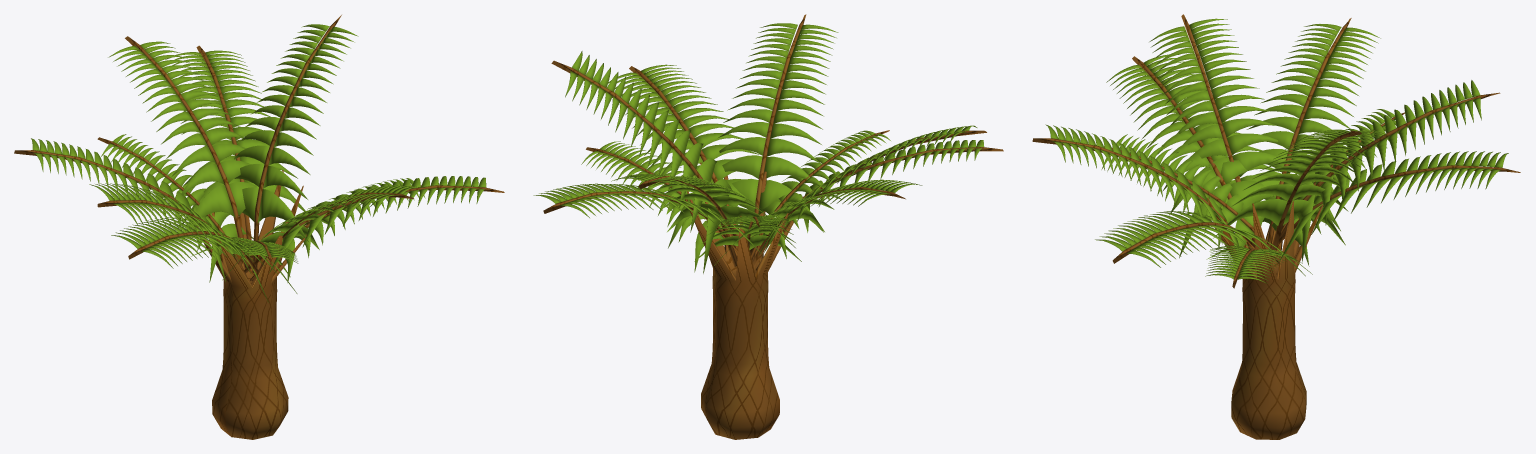
The model's file is sawit.fbx.
3 renders of one model, left to right at view 1: azimuth 30°, elevation 25°; view 2: azimuth 150°, elevation 25°; view 3: azimuth 270°, elevation 25°, orthographic. The views are drawn at different scales.
Visible parts, largest first — view 1: Plane.001, Cylinder; view 2: Plane.001, Cylinder; view 3: Plane.001, Cylinder.
Boxes of the visible parts, <box> form: Plane.001: <box>14,15,504,302</box>; Cylinder: <box>196,170,306,439</box>; Plane.001: <box>533,14,1003,273</box>; Cylinder: <box>685,162,800,439</box>; Plane.001: <box>1032,14,1520,288</box>; Cylinder: <box>1207,158,1323,439</box>.
Bounding box in the file's own units: 1997 × 1746 × 2117.
1 material, 1 textured.
